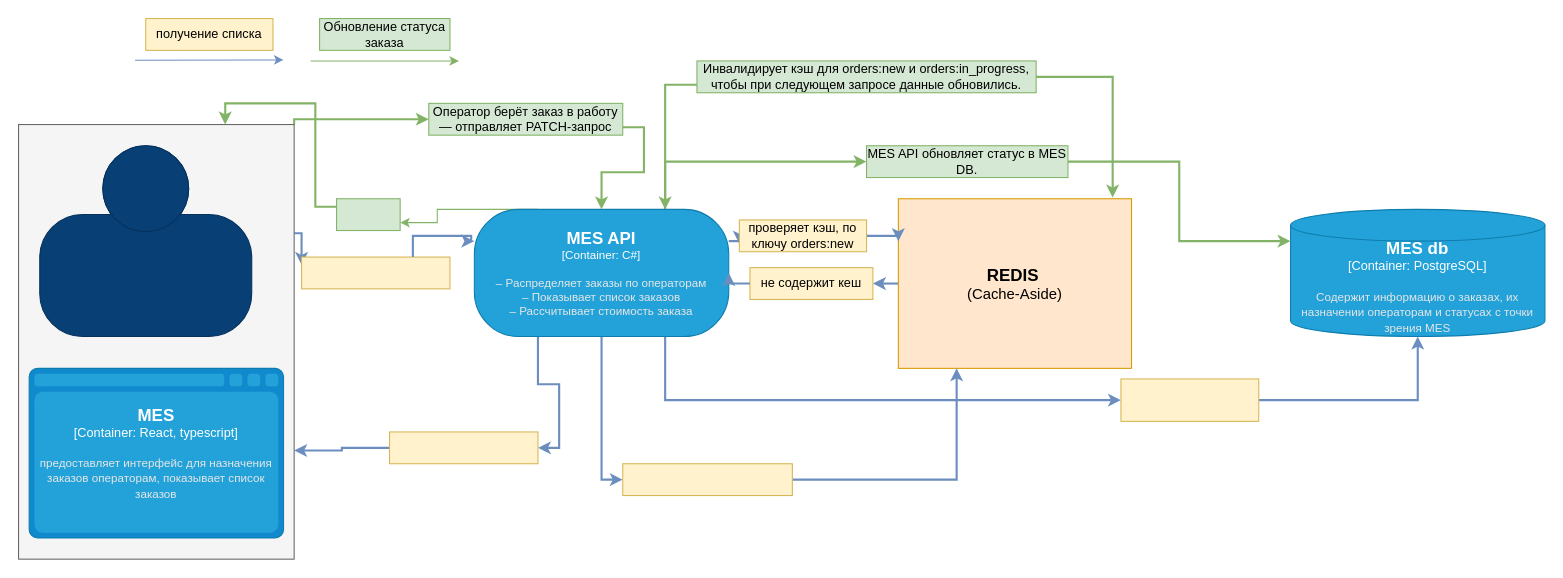
Some shapes in this 1563 by 578 pixel diagram are drawn without their labels. The box of each missing label's shape, as (x1, y1, x2, y2) in pixels:
Operator [Person] берет заказы в работу, изготавливает украшения: (39, 145, 252, 337)
Запрашивает лист напрямую из бд: (1120, 378, 1259, 421)
запрашивает список новых заказов: (301, 256, 450, 289)
отдает данные на отрисовку: (388, 431, 538, 464)
Сохраняет результат в Redis с TTL=60 секунд: (622, 463, 792, 496)
статус обновлен: (335, 198, 400, 231)
